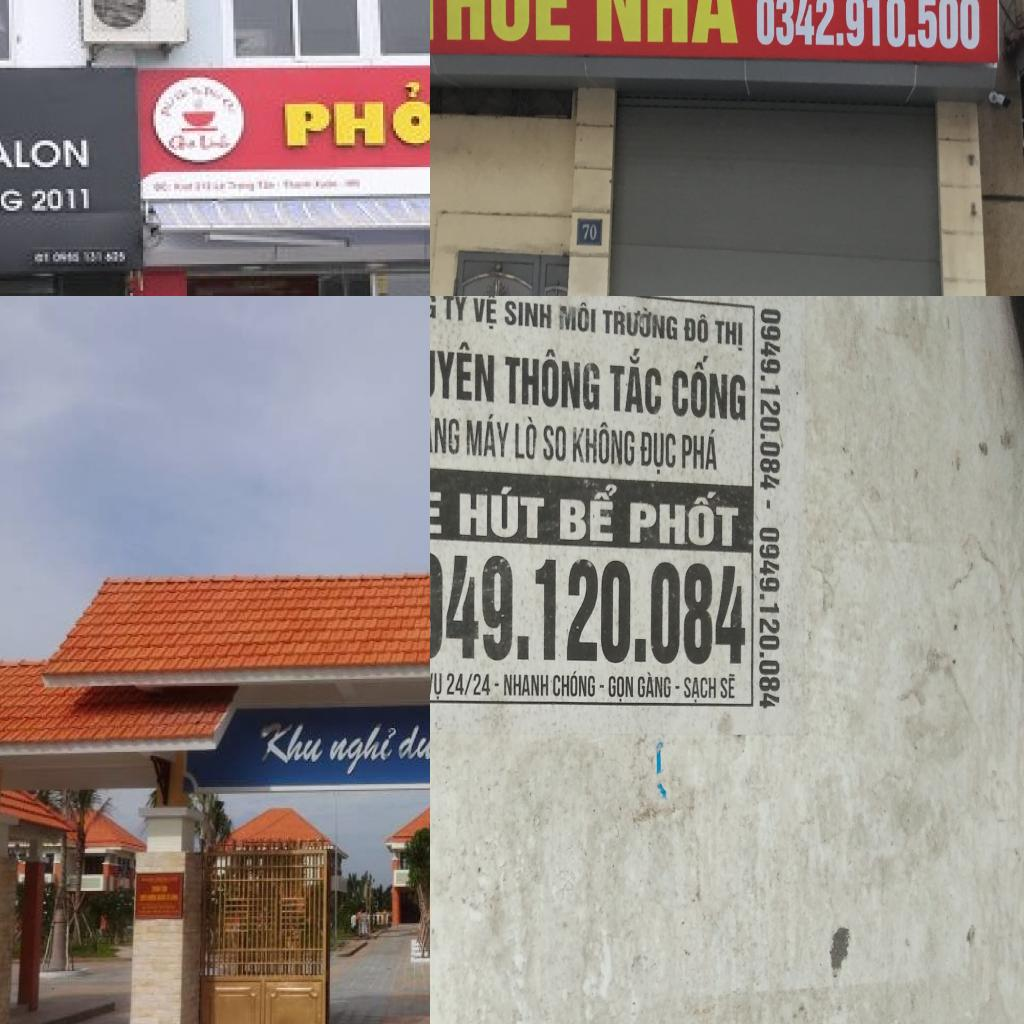text: (430, 548, 748, 665), (753, 0, 983, 51), (282, 82, 430, 152), (626, 483, 741, 550), (589, 0, 740, 44), (503, 345, 601, 412), (430, 0, 571, 44), (455, 480, 549, 545), (670, 350, 747, 424), (756, 305, 784, 495), (430, 336, 497, 405), (555, 480, 620, 546), (606, 344, 664, 415), (328, 724, 400, 781), (257, 720, 330, 768), (0, 137, 94, 174), (570, 420, 635, 470), (601, 302, 678, 342), (462, 409, 509, 463), (394, 721, 430, 777), (636, 428, 676, 478), (30, 186, 96, 216), (679, 424, 720, 472), (430, 399, 460, 453), (502, 298, 552, 330), (548, 668, 596, 701), (500, 670, 549, 702), (444, 669, 492, 701), (634, 669, 674, 706), (512, 412, 540, 464), (556, 300, 598, 334), (712, 316, 745, 356), (679, 673, 717, 705), (542, 420, 568, 466), (605, 670, 636, 702), (681, 309, 710, 343), (0, 179, 27, 215), (471, 296, 498, 331), (717, 672, 742, 708), (441, 296, 467, 323), (430, 669, 444, 705), (581, 221, 597, 242)
